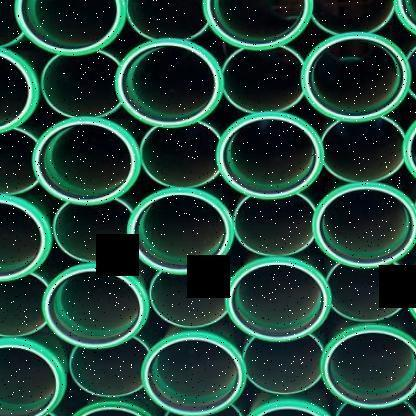pipe: (300, 31, 412, 122), (114, 38, 224, 128), (32, 117, 142, 205), (216, 112, 325, 200), (42, 263, 150, 349), (311, 183, 416, 268), (225, 258, 331, 341), (128, 190, 232, 274), (142, 333, 246, 416), (319, 325, 416, 409), (15, 0, 126, 56), (320, 116, 406, 182), (201, 0, 313, 50), (222, 46, 305, 113), (41, 51, 121, 118), (140, 122, 221, 188), (233, 193, 315, 256), (0, 338, 66, 416), (53, 199, 134, 262), (150, 266, 232, 328), (325, 263, 408, 322), (242, 335, 322, 394), (69, 338, 150, 396), (0, 194, 53, 282), (124, 0, 210, 42), (0, 272, 53, 338), (0, 43, 38, 134), (310, 0, 394, 34), (0, 128, 38, 195), (60, 399, 166, 416), (235, 399, 341, 416), (0, 0, 28, 48), (402, 107, 416, 193), (335, 402, 416, 416), (392, 0, 416, 42), (161, 404, 244, 416), (406, 254, 416, 337), (404, 40, 416, 108)
